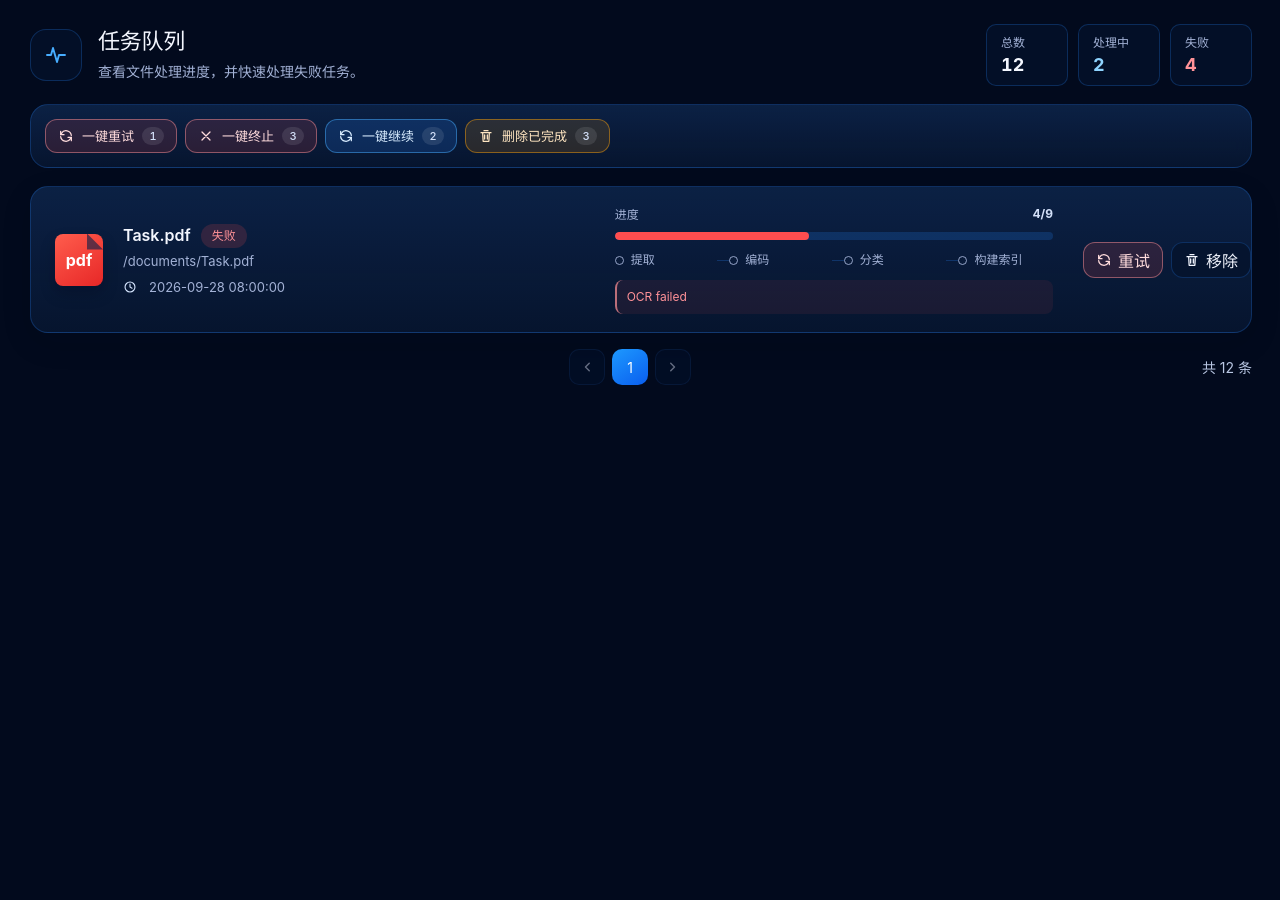
Test: TasksPage › runs bulk terminate, continue, and delete completed actions
Click the button "一键终止 3". click: (251, 136)
box: [185,119,317,153]
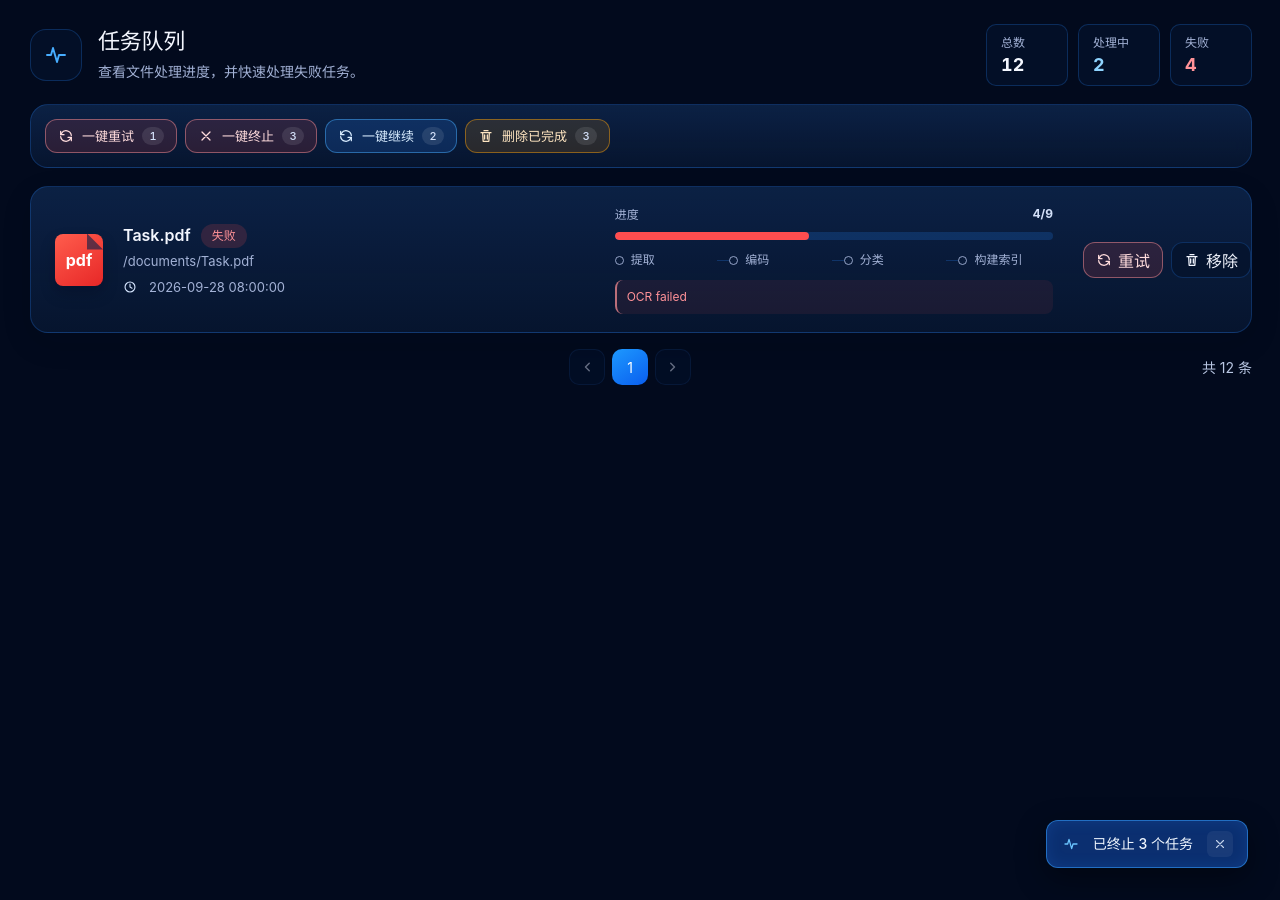
Result: the text "已终止 3 个任务" is shown at [1093,834,1193,854]
Click the button "一键继续 2". click: (391, 136)
box: [325,119,457,153]
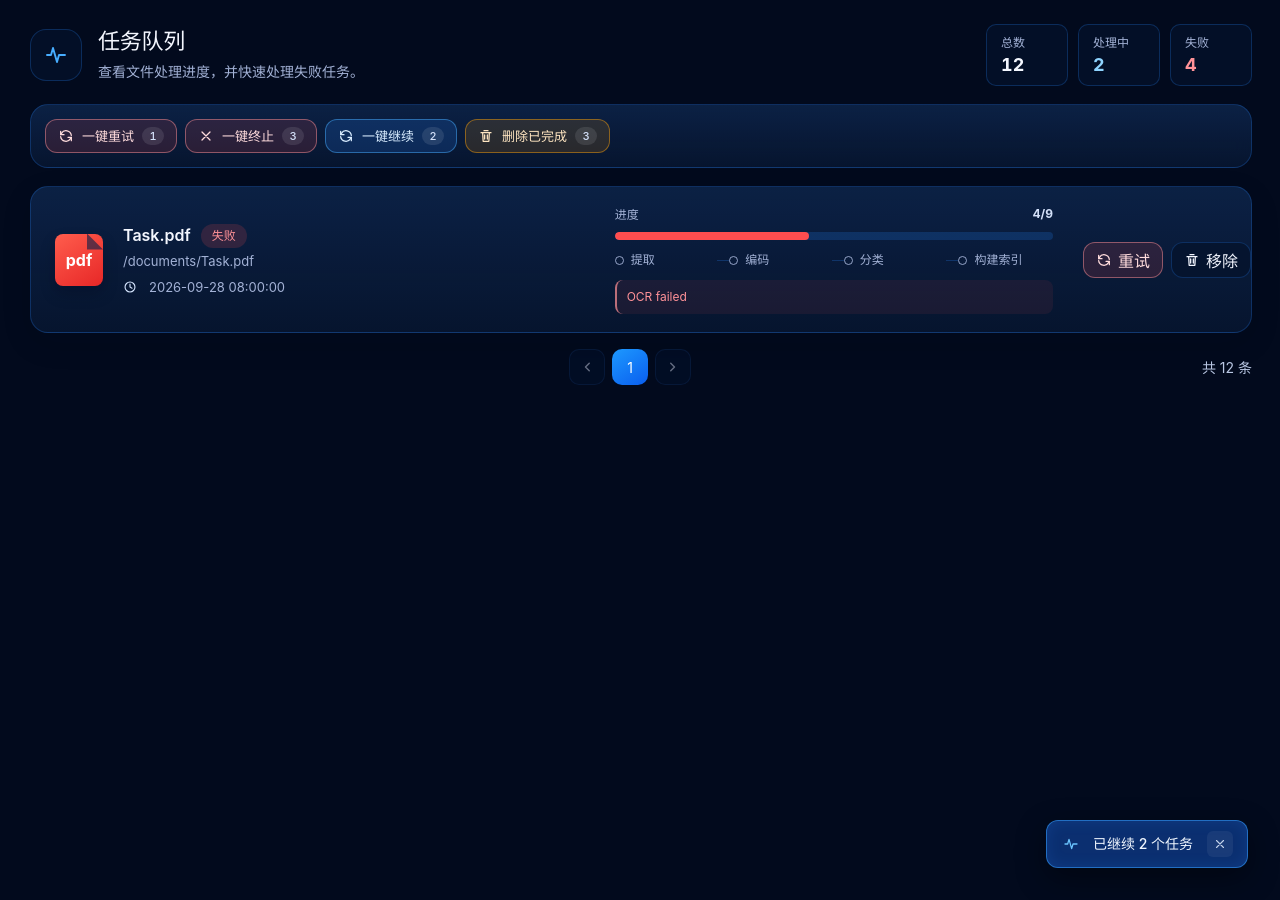
Result: the text "已继续 2 个任务" is shown at [1093,834,1193,854]
Click the button "删除已完成 3". click: (538, 136)
box: [465,119,610,153]
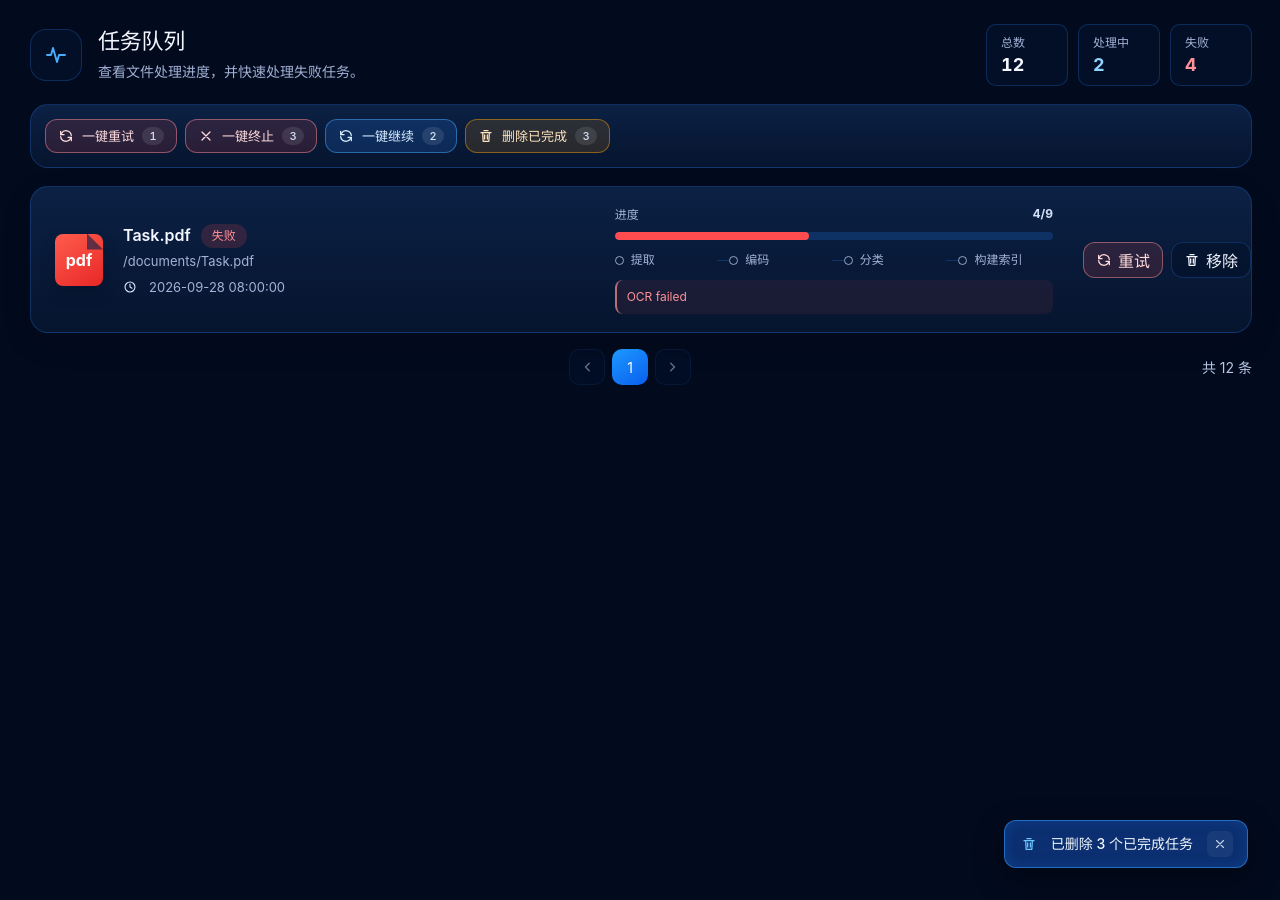
Result: the text "已删除 3 个已完成任务" is shown at [1051,834,1193,854]
